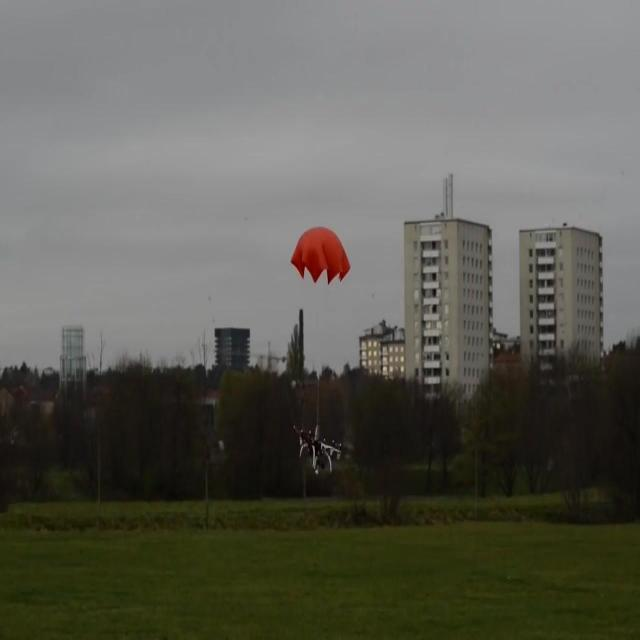UAV: (293, 422, 342, 476)
